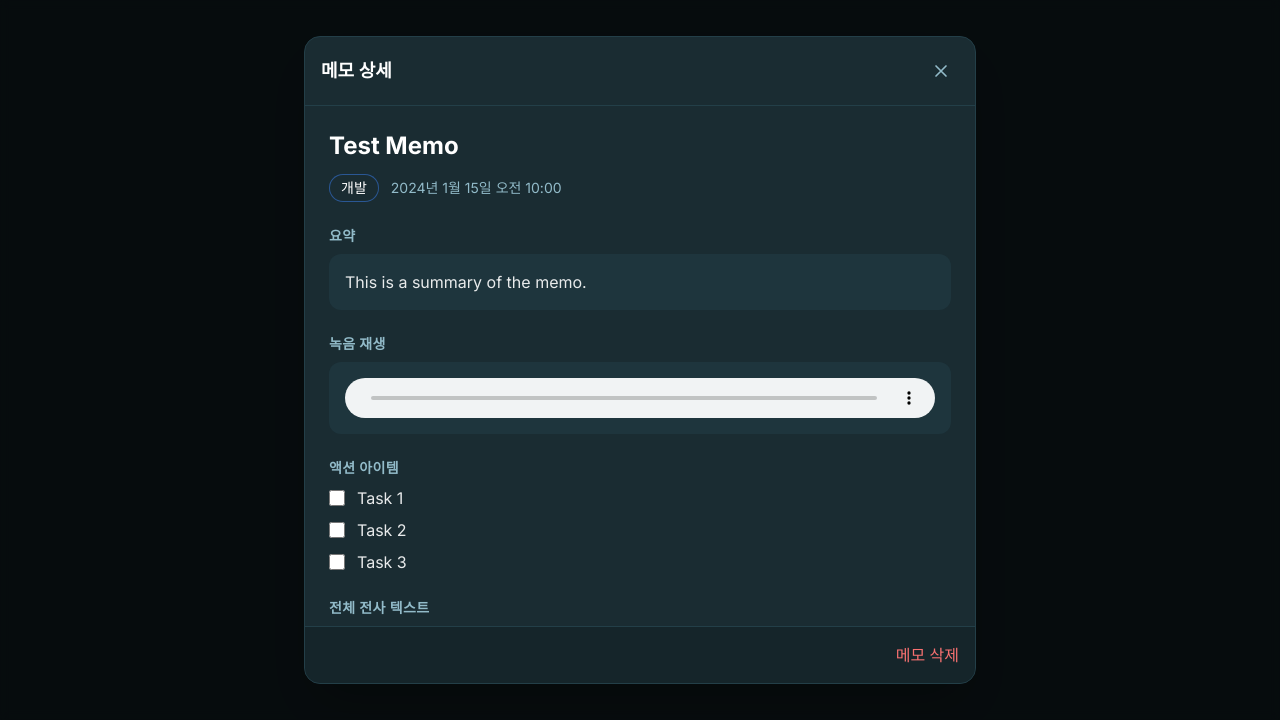
Scenario: MemoDetailModal › deletion › shows error when deletion fails
Expected: the heading "Test Memo" is shown, [329,131,459,160]
Click the button "메모 삭제" at (927, 655), box [896,643,959,667]
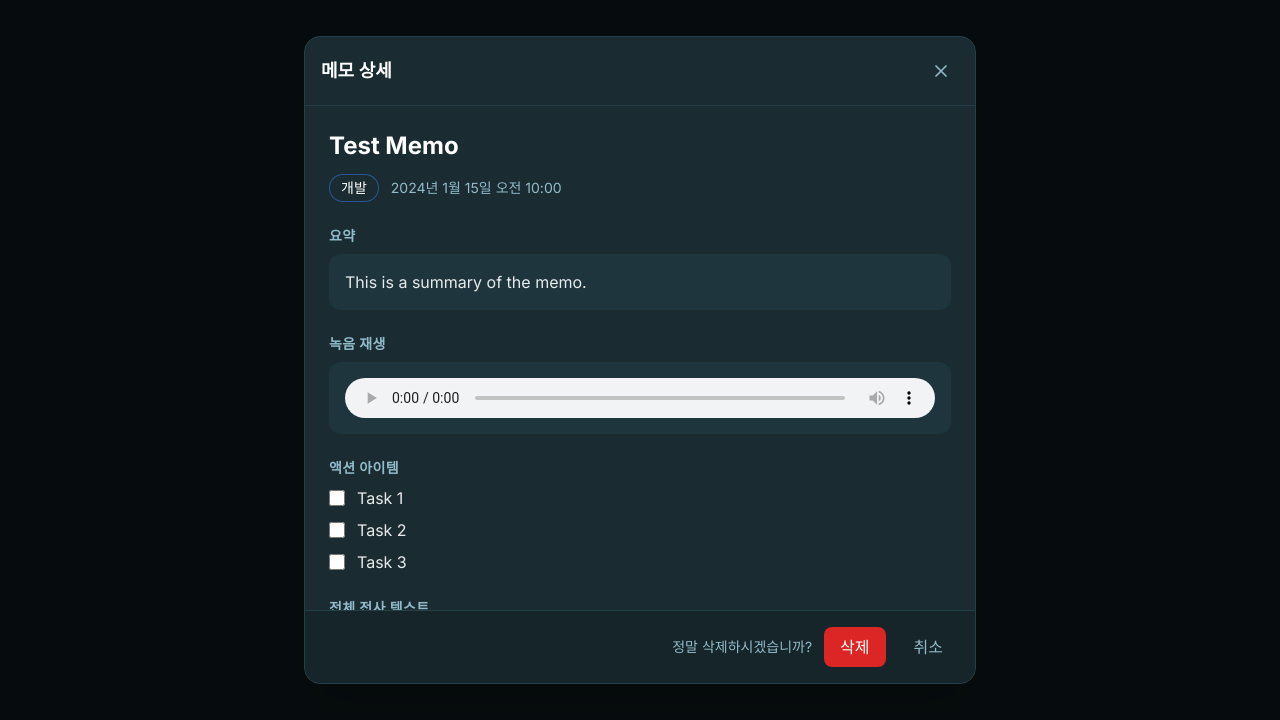
Click the button "삭제" at (855, 647), box [824,627,886,667]
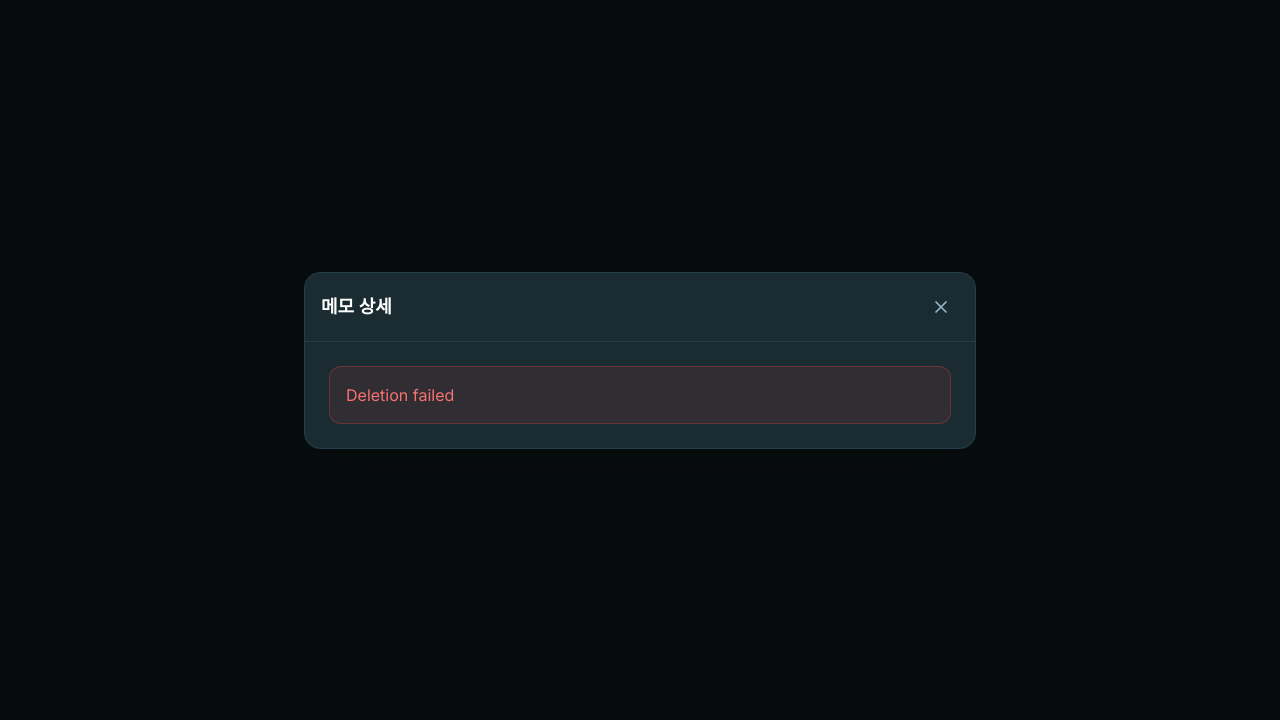
Result: the text "Deletion failed" is shown at [329,366,951,424]
